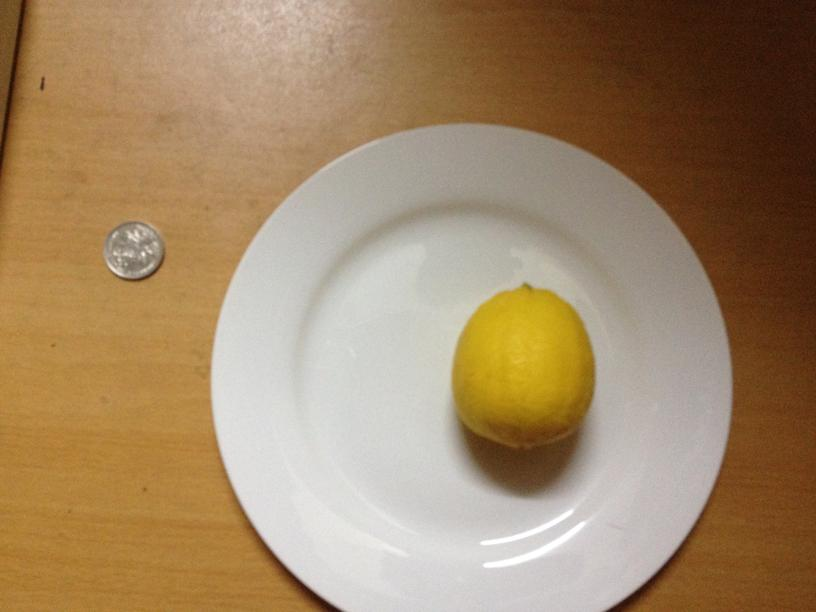coin: (105, 220, 163, 280)
lemon: (450, 283, 594, 447)
